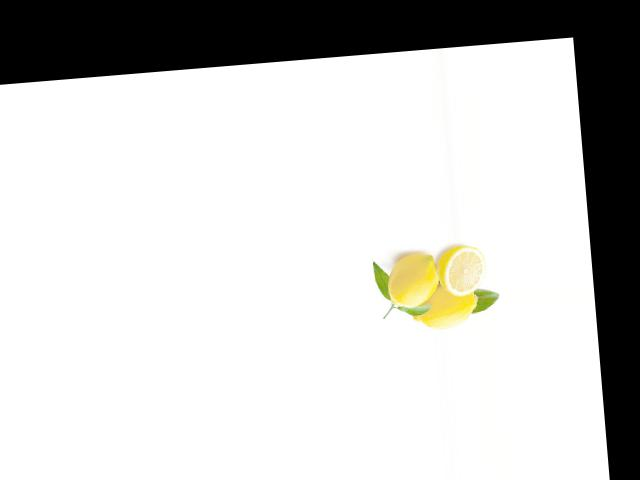lemon: (407, 278, 477, 334)
